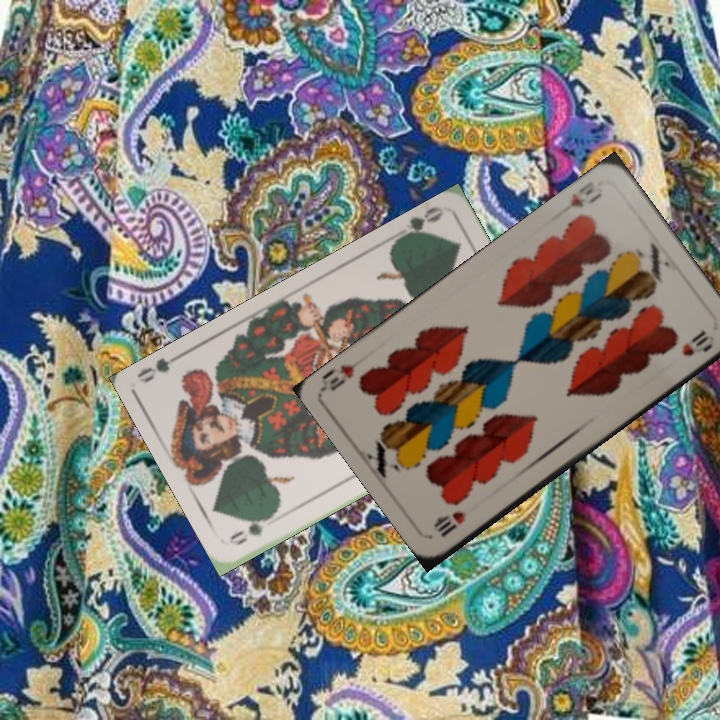GO: (392, 202, 445, 243), (229, 507, 279, 548)
H10: (566, 177, 605, 210), (431, 507, 468, 540)
